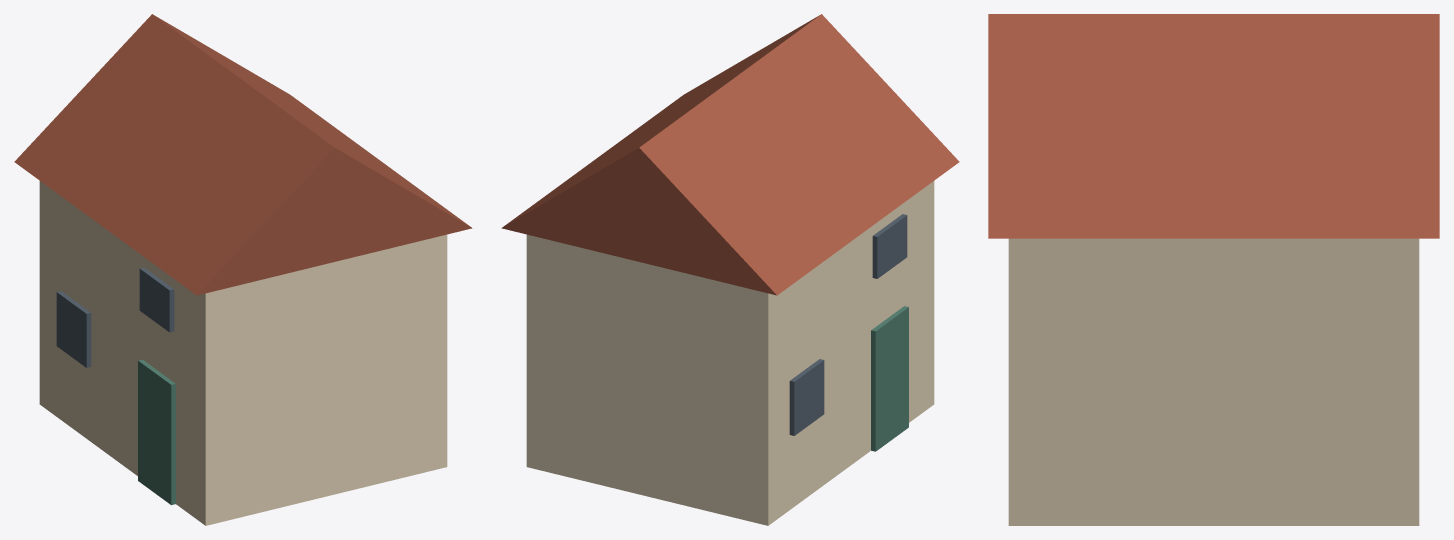
The model's file is SM_House_East.fbx.
3 renders of one model, left to right at view 1: azimuth 30°, elevation 25°; view 2: azimuth 150°, elevation 25°; view 3: azimuth 270°, elevation 25°, orthographic. The views are drawn at different scales.
Parts seen in each view (by area): view 1: Body.003, Roof.003, Door.003, Window_A.003, Window_B.002; view 2: Body.003, Roof.003, Door.003, Window_A.003, Window_B.002; view 3: Body.003, Roof.003.
Part boxes in pixels (x1,y1,x2,y2): Body.003: (39,181,447,525); Roof.003: (14,14,472,295); Door.003: (138,359,175,505); Window_A.003: (56,291,91,367); Window_B.002: (139,267,174,332); Body.003: (526,181,934,525); Roof.003: (501,14,959,295); Door.003: (871,306,908,451); Window_A.003: (789,359,824,435); Window_B.002: (872,214,907,278); Body.003: (1008,238,1419,525); Roof.003: (988,14,1439,238).
Size of the model in its own units: 4.8 by 5.9 by 5.5.
